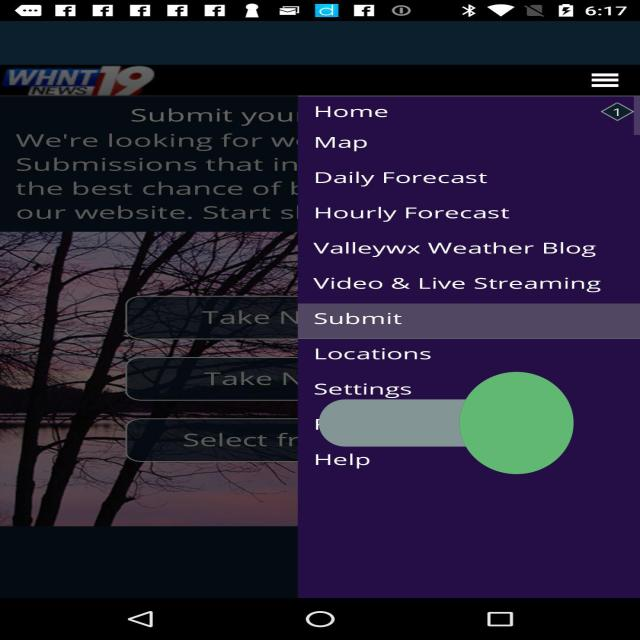social proof: (318, 309, 574, 537)
